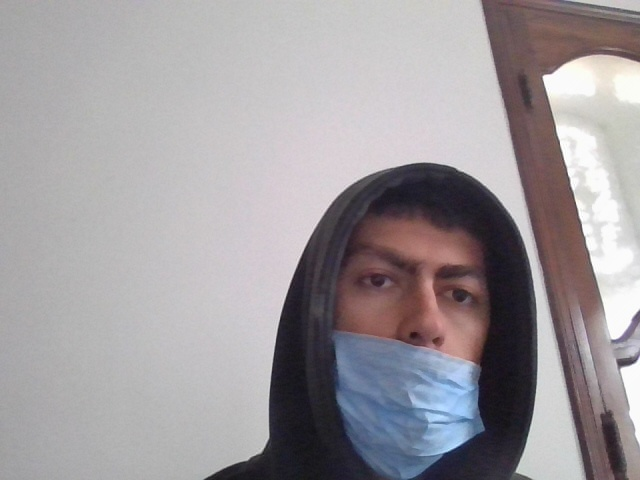mask_weared_incorrect: (323, 185, 523, 480)
